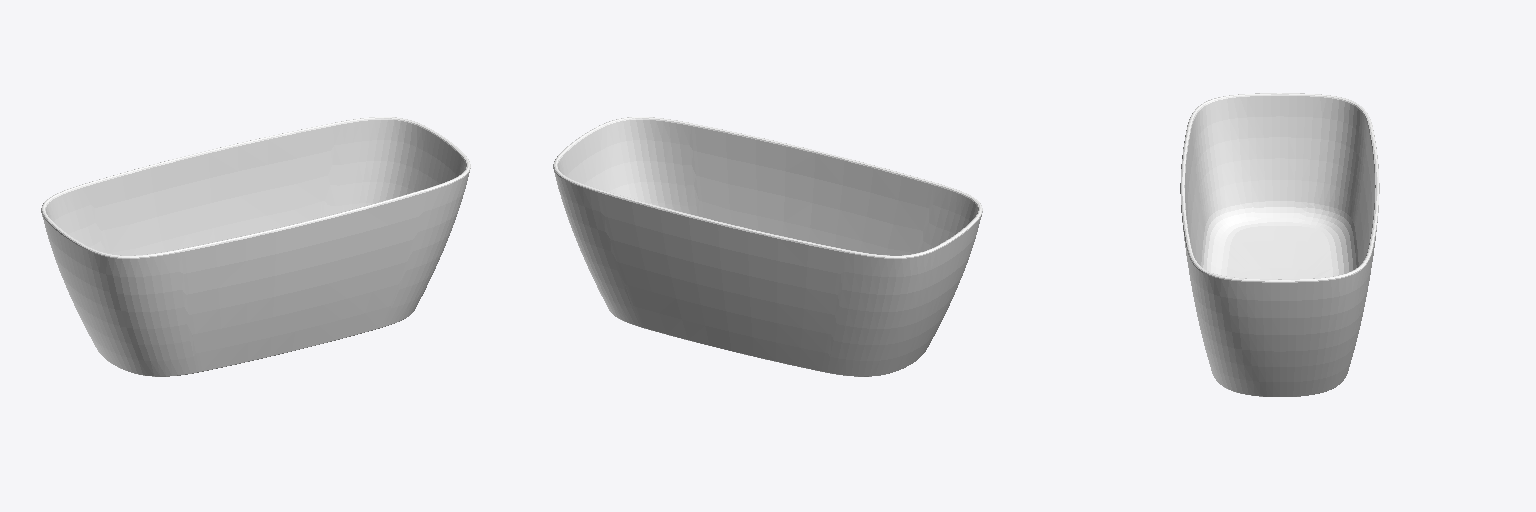
Rendered from bath.obj.
3 renders of one model, left to right at view 1: azimuth 30°, elevation 25°; view 2: azimuth 150°, elevation 25°; view 3: azimuth 270°, elevation 25°, orthographic.
Parts seen in each view (by area): view 1: Surface_1; view 2: Surface_1; view 3: Surface_1.
Part boxes in pixels (bbox=[...]): Surface_1: bbox=[41, 117, 470, 376]; Surface_1: bbox=[553, 117, 982, 376]; Surface_1: bbox=[1180, 93, 1379, 396].
Bounding box in the file's own units: 66.8 × 22.99 × 29.88.